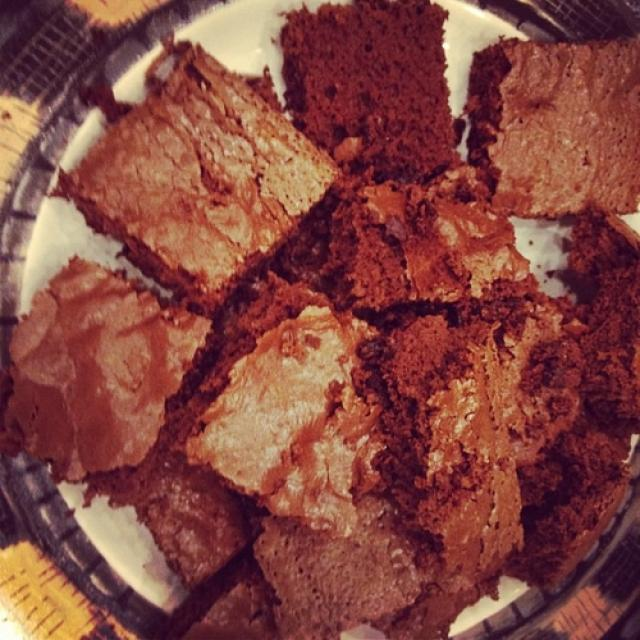蛋糕甜品: (16, 21, 624, 624)
